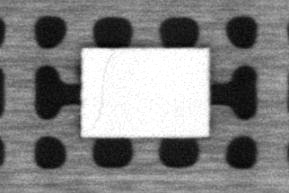DIE_CRACK: (87, 53, 114, 130)
